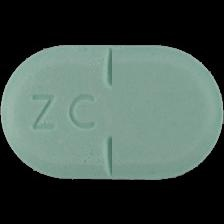68382-079: (0, 0, 224, 224)
